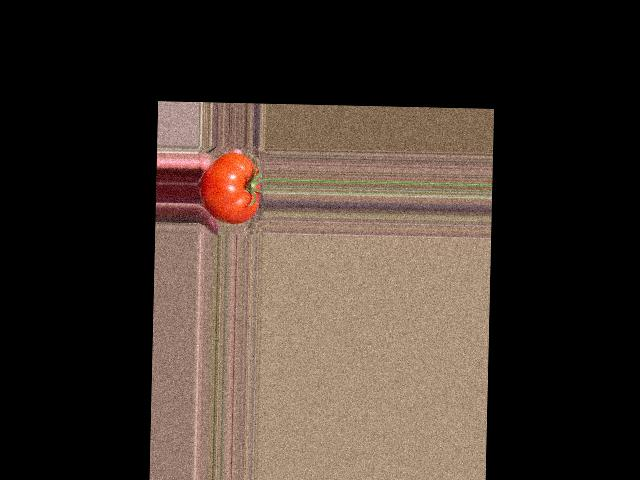tomato: (199, 151, 260, 223)
